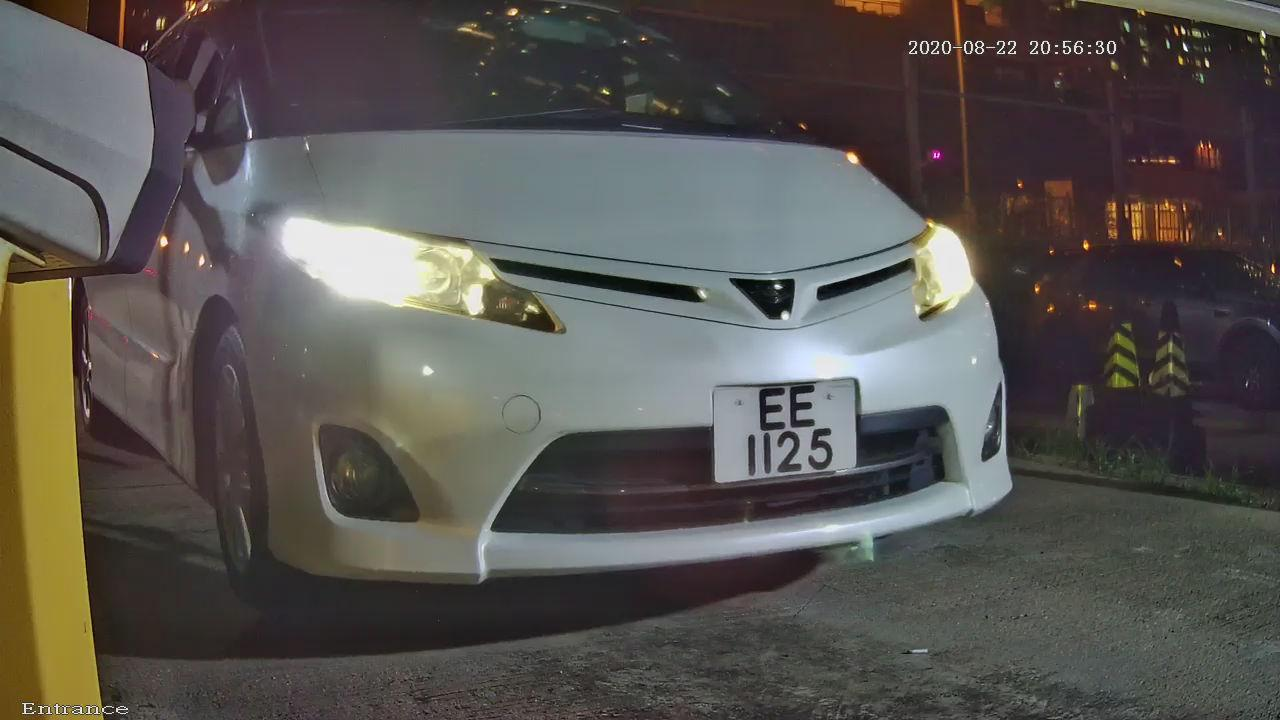Car: (81, 17, 1081, 624)
License Plate: (658, 330, 922, 543)
